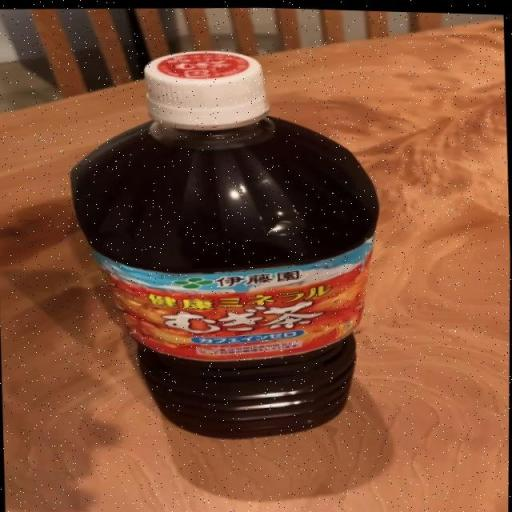plastic: (69, 50, 380, 439)
